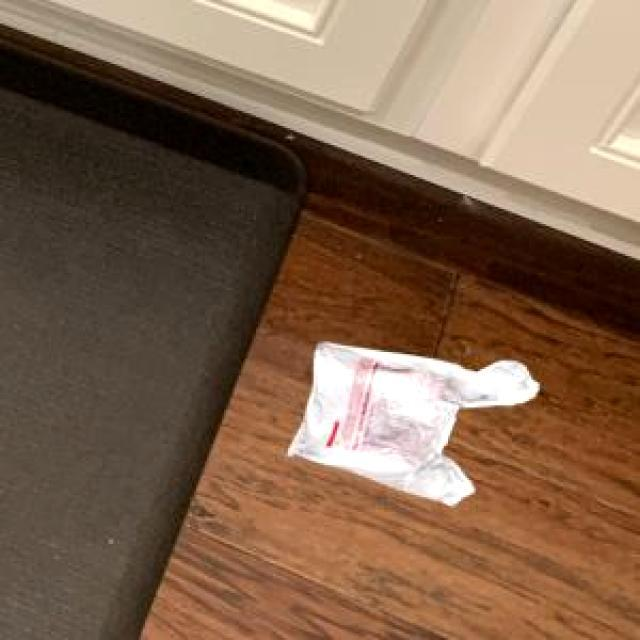Plastic_Bag: (284, 340, 534, 502)
